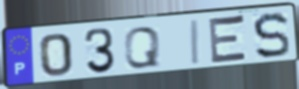0: (37, 32, 76, 79)
3: (82, 27, 117, 76)
E: (208, 13, 250, 66)
I: (190, 18, 202, 67)
Q: (122, 25, 161, 70)
S: (251, 11, 292, 61)
